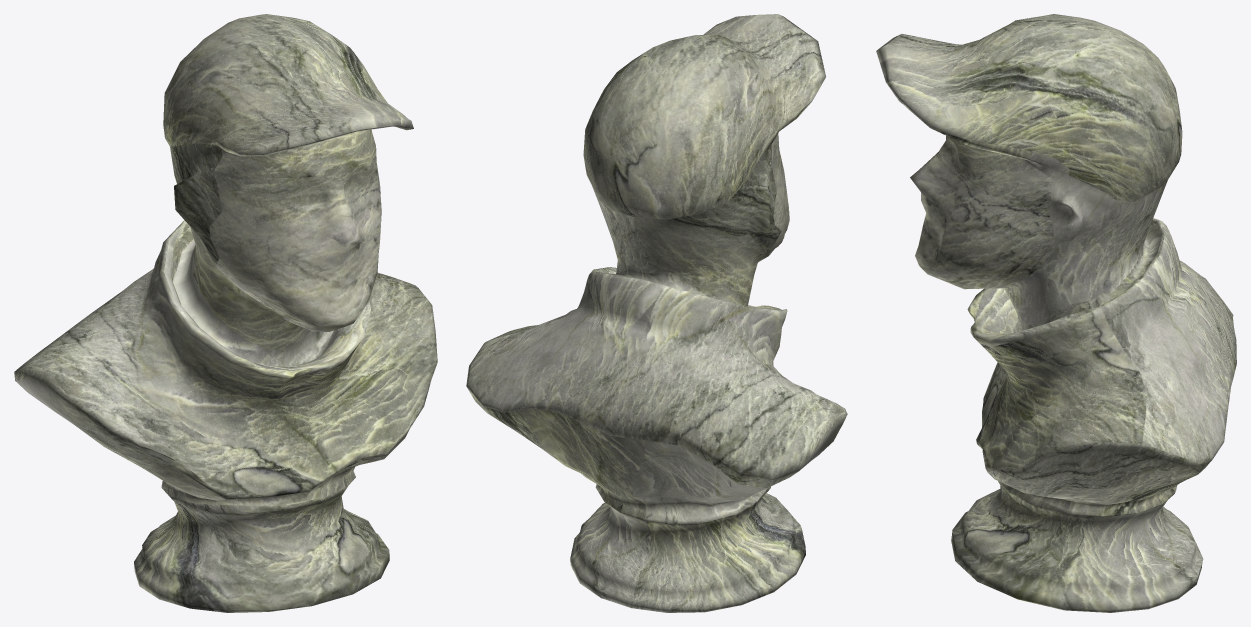
Rendered from Pasha.glb.
The picture shows the model from 3 angles, left to right: view 1: azimuth 30°, elevation 25°; view 2: azimuth 150°, elevation 25°; view 3: azimuth 270°, elevation 25°; orthographic projection. The views are drawn at different scales.
Visible parts, largest first — view 1: Bust; view 2: Bust; view 3: Bust.
Boxes of the visible parts, x1,y1,x2,y2 form: Bust: (14, 14, 437, 612); Bust: (466, 14, 847, 612); Bust: (876, 14, 1236, 612).
Bounding box in the file's own units: 0.2773 × 0.3884 × 0.2314.
1 material, 1 textured.
